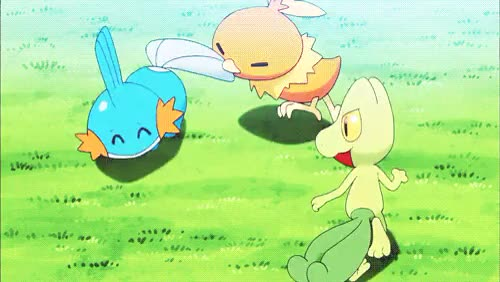mudkip: (78, 21, 237, 181)
